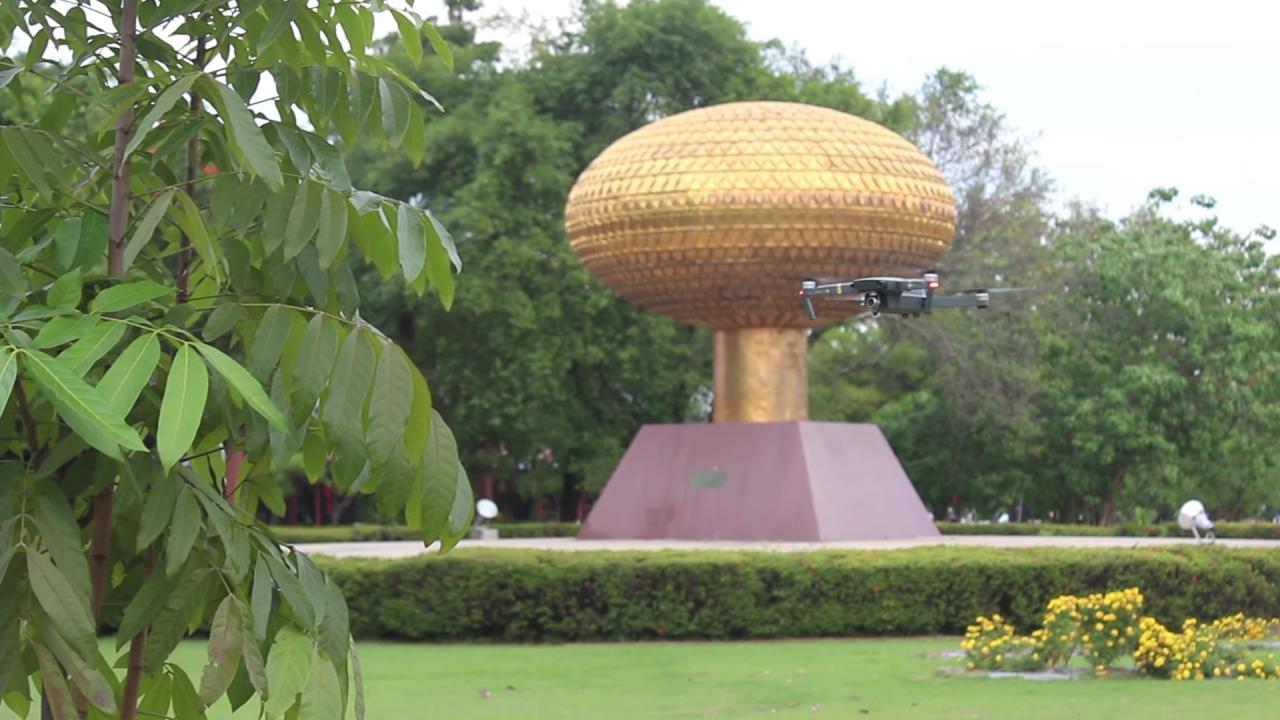Drone: (765, 259, 1045, 331)
